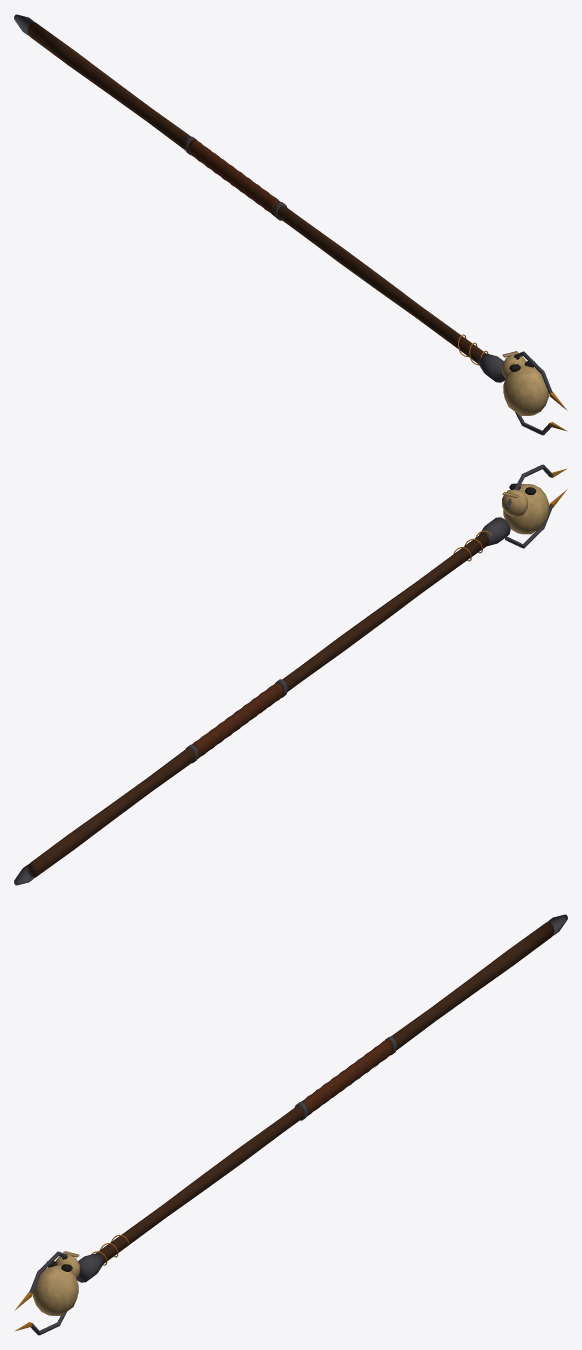
File: weapon_weald_staff.glb
3 views of the same model, one above another, from view 1: azimuth 30°, elevation 25°; view 2: azimuth 150°, elevation 25°; view 3: azimuth 330°, elevation 25° (orthographic).
Visible parts, largest first — view 1: weald_staff; view 2: weald_staff; view 3: weald_staff.
Part boxes in pixels (box(x1,y1,x2,y2)): weald_staff: box(14, 14, 567, 435); weald_staff: box(14, 464, 567, 885); weald_staff: box(14, 914, 567, 1335).
Bounding box in the file's own units: 0.077 × 0.1468 × 1.98.
Materials: 6 (5 with a texture image).
